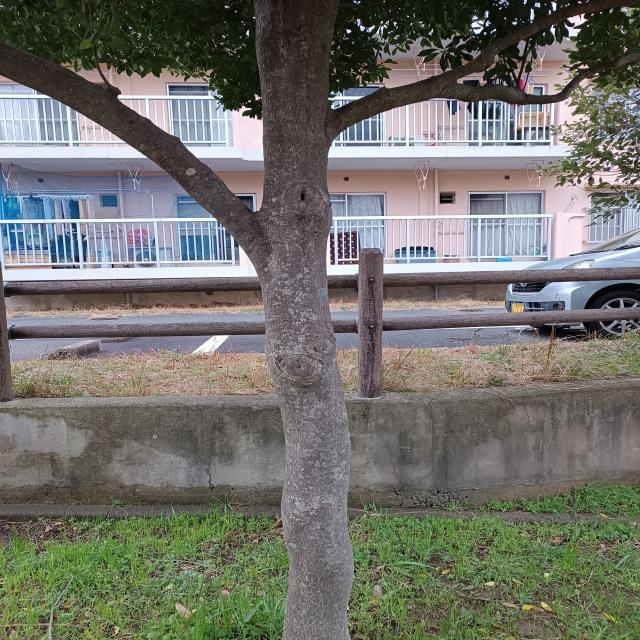Branch: (0, 43, 255, 254), (253, 1, 342, 232), (332, 73, 458, 140)
Twig: (449, 1, 638, 79), (455, 53, 640, 105)
